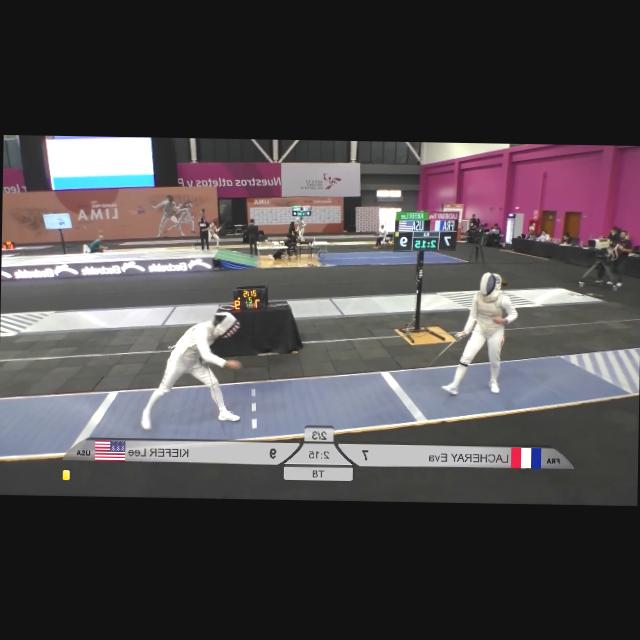blade: (199, 360, 228, 436), (420, 332, 463, 374)
